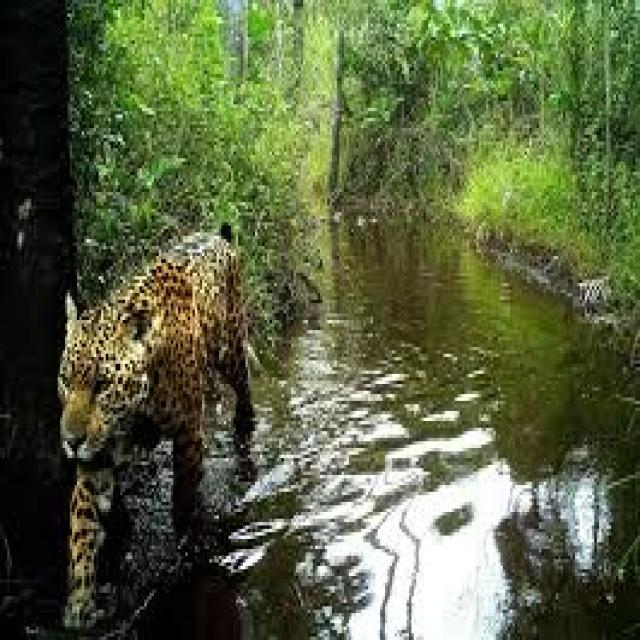Jaguar: (34, 199, 264, 633)
